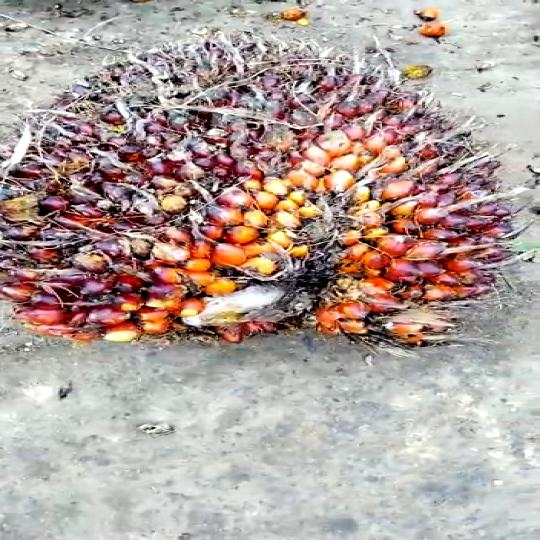masak: (0, 29, 523, 372)
